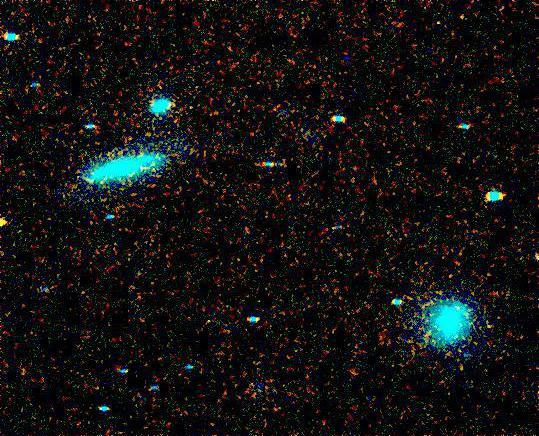star: (0, 207, 18, 237)
